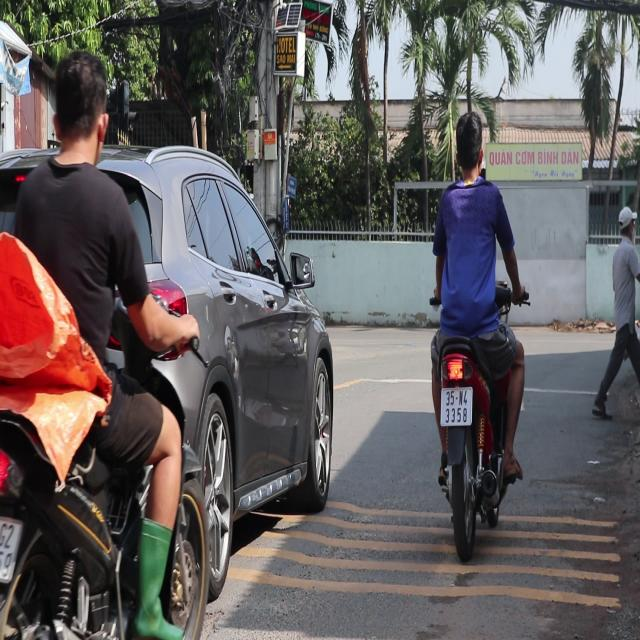licenseplate: (1, 50, 236, 630), (422, 108, 529, 541)
motorcyclist: (48, 52, 110, 162), (451, 110, 486, 182), (617, 204, 636, 239)
nohelmet: (440, 387, 472, 425)
